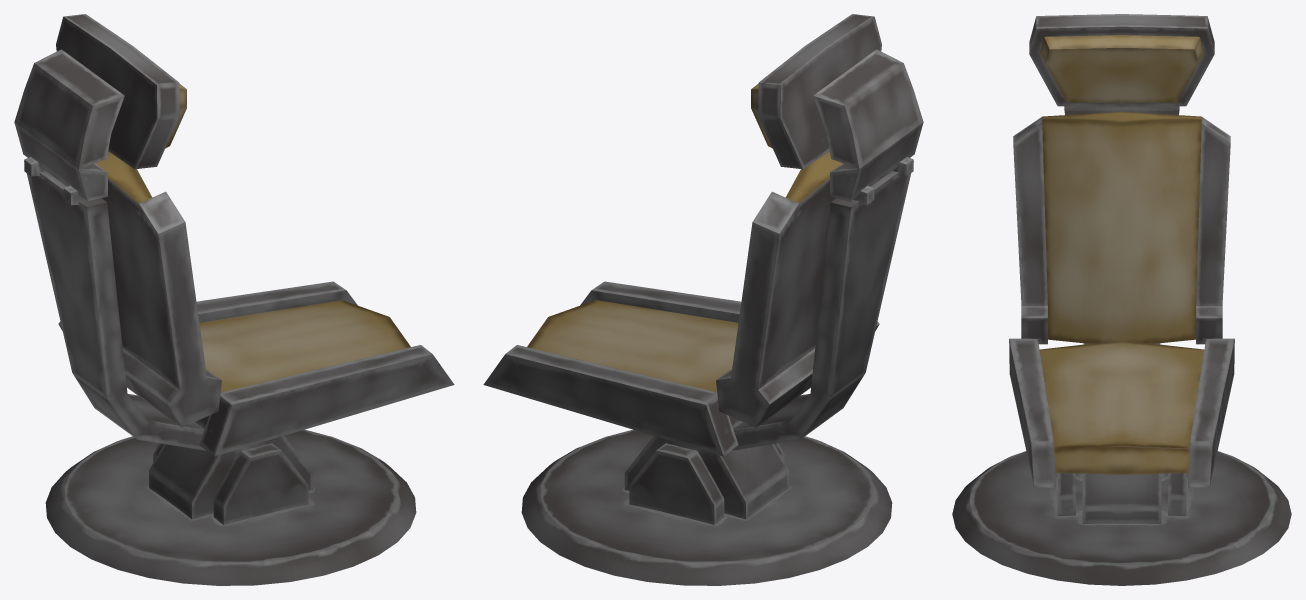
File: Cockpit Chair.fbx
3 views of the same model, side by side, from view 1: azimuth 30°, elevation 25°; view 2: azimuth 150°, elevation 25°; view 3: azimuth 270°, elevation 25° (orthographic). The views are drawn at different scales.
Parts seen in each view (by area): view 1: Cube.001, Circle; view 2: Cube.001, Circle; view 3: Cube.001, Circle.
Boxes of the visible parts, x1,y1,x2,y2 form: Cube.001: (14,14,454,524); Circle: (45,429,416,585); Cube.001: (483,14,923,524); Circle: (521,429,892,585); Cube.001: (1009,14,1234,523); Circle: (952,451,1291,585).
Bounding box in the file's own units: 128 × 165 × 114.
1 material, 1 textured.
